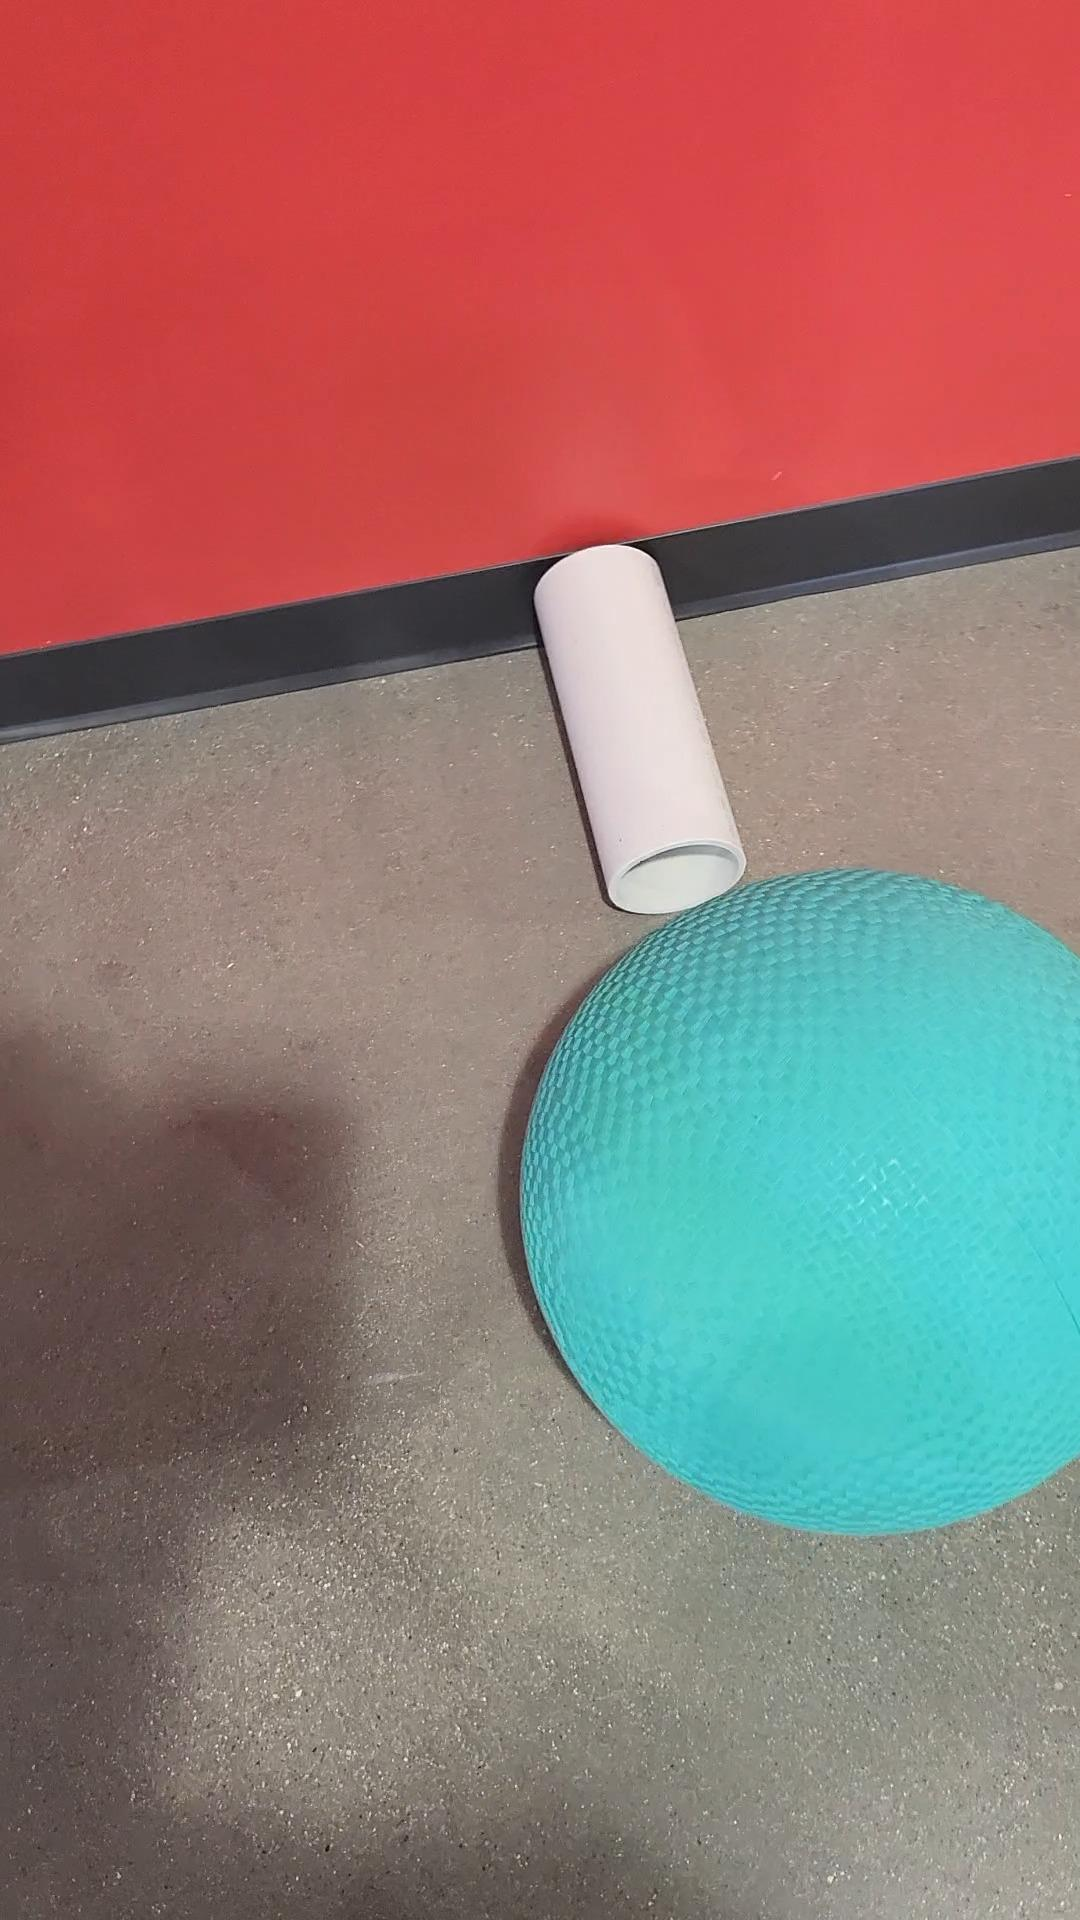algae: (508, 865, 1079, 1544)
coral: (531, 541, 744, 914)
